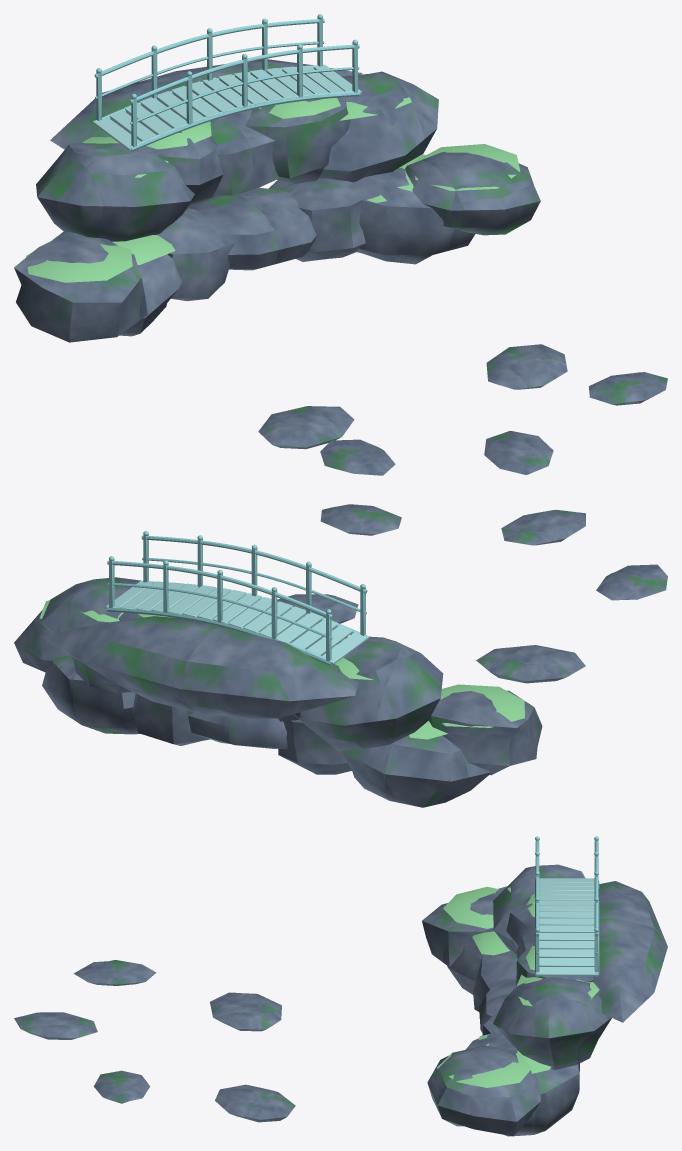
Rendered from garden_monet_pond.glb.
3 renders of one model, top to bottom at view 1: azimuth 30°, elevation 25°; view 2: azimuth 150°, elevation 25°; view 3: azimuth 270°, elevation 25°, orthographic. The views are drawn at different scales.
Parts seen in each view (by area): view 1: Waterfall_Cliff, Pond_ViewingBoulders, Bridge_Rails, Bridge_Planks, Waterfall_MossCaps; view 2: Waterfall_Cliff, Pond_ViewingBoulders, Bridge_Rails, Bridge_Planks, Waterfall_MossCaps; view 3: Waterfall_Cliff, Pond_ViewingBoulders, Bridge_Planks, Waterfall_MossCaps, Bridge_Rails.
Boxes of the visible parts, bbox=[...] form: Waterfall_Cliff: bbox=[14, 59, 540, 342]; Pond_ViewingBoulders: bbox=[258, 344, 667, 475]; Bridge_Rails: bbox=[94, 14, 360, 151]; Bridge_Planks: bbox=[92, 64, 361, 150]; Waterfall_MossCaps: bbox=[26, 97, 520, 282]; Waterfall_Cliff: bbox=[14, 577, 542, 807]; Pond_ViewingBoulders: bbox=[270, 504, 667, 683]; Bridge_Rails: bbox=[107, 531, 367, 665]; Bridge_Planks: bbox=[105, 580, 369, 664]; Waterfall_MossCaps: bbox=[39, 600, 524, 739]; Waterfall_Cliff: bbox=[422, 864, 667, 1136]; Pond_ViewingBoulders: bbox=[14, 960, 295, 1122]; Bridge_Planks: bbox=[535, 878, 598, 976]; Waterfall_MossCaps: bbox=[437, 886, 599, 1087]; Bridge_Rails: bbox=[535, 836, 599, 976].
Bounding box in the file's own units: 9.04 × 3.92 × 11.94.
5 materials, 2 textured.
